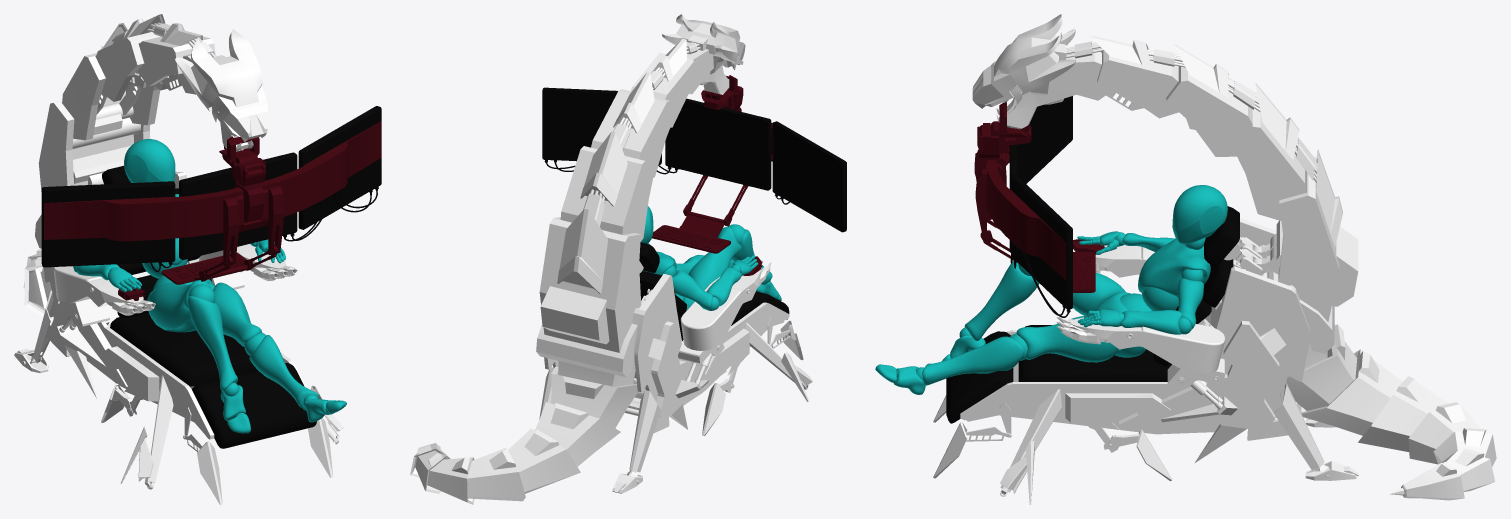
The model's file is dragon5.glb.
3 views of the same model, side by side, from view 1: azimuth 30°, elevation 25°; view 2: azimuth 150°, elevation 25°; view 3: azimuth 270°, elevation 25° (orthographic). The views are drawn at different scales.
Visible parts, largest first — view 1: a1UVs3, a2UVs1, JUST_MAT_xBot_, a1UVs1, a1UVs4, mainHead, monitor_right, monitorMid, monitor_left, mech, tail_2_1, a2UVs1_3 (+1 smaller); view 2: a1UVs1, a1UVs3, tail_2_1, monitorMid, monitor_right, JUST_MAT_xBot_, monitor_left, mainHead, a2UVs1, a1UVs4; view 3: a1UVs3, a1UVs1, JUST_MAT_xBot_, tail_2_1, a1UVs4, mainHead, a2UVs1, monitor_right, monitor_left, a2UVs1_3.
Part boxes in pixels (left/top/right/bottom): a1UVs3: left=14, top=171, right=343, bottom=504; a2UVs1: left=44, top=121, right=381, bottom=300; JUST_MAT_xBot_: left=73, top=139, right=346, bottom=433; a1UVs1: left=35, top=14, right=216, bottom=248; a1UVs4: left=102, top=165, right=378, bottom=448; mainHead: left=175, top=29, right=268, bottom=151; monitor_right: left=41, top=181, right=175, bottom=267; monitorMid: left=179, top=152, right=297, bottom=259; monitor_left: left=298, top=106, right=381, bottom=229; mech: left=72, top=71, right=181, bottom=148; tail_2_1: left=23, top=22, right=243, bottom=317; a2UVs1_3: left=232, top=162, right=265, bottom=222; a1UVs1: left=536, top=38, right=713, bottom=377; a1UVs3: left=539, top=260, right=812, bottom=493; tail_2_1: left=410, top=42, right=700, bottom=504; monitorMid: left=665, top=98, right=771, bottom=190; monitor_right: left=772, top=121, right=846, bottom=232; JUST_MAT_xBot_: left=641, top=206, right=781, bottom=310; monitor_left: left=542, top=87, right=661, bottom=164; mainHead: left=662, top=14, right=745, bottom=94; a2UVs1: left=652, top=123, right=772, bottom=275; a1UVs4: left=544, top=160, right=789, bottom=340; a1UVs3: left=933, top=218, right=1358, bottom=504; a1UVs1: left=1031, top=35, right=1358, bottom=353; JUST_MAT_xBot_: left=875, top=185, right=1227, bottom=394; tail_2_1: left=1011, top=41, right=1496, bottom=500; a1UVs4: left=946, top=206, right=1239, bottom=423; mainHead: left=972, top=14, right=1075, bottom=129; a2UVs1: left=975, top=145, right=1104, bottom=292; monitor_right: left=1016, top=96, right=1072, bottom=183; monitor_left: left=1011, top=175, right=1072, bottom=309; a2UVs1_3: left=974, top=126, right=1006, bottom=185.
Size of the model in its own units: 17.77 by 20.7 by 27.25.
